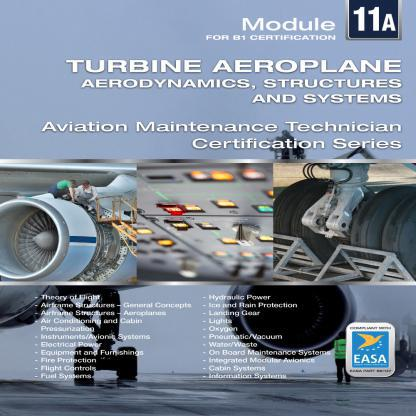CIV_Plane: (270, 149, 415, 278), (5, 163, 136, 282)
